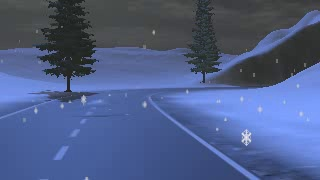Lane: (0, 86, 263, 179)
